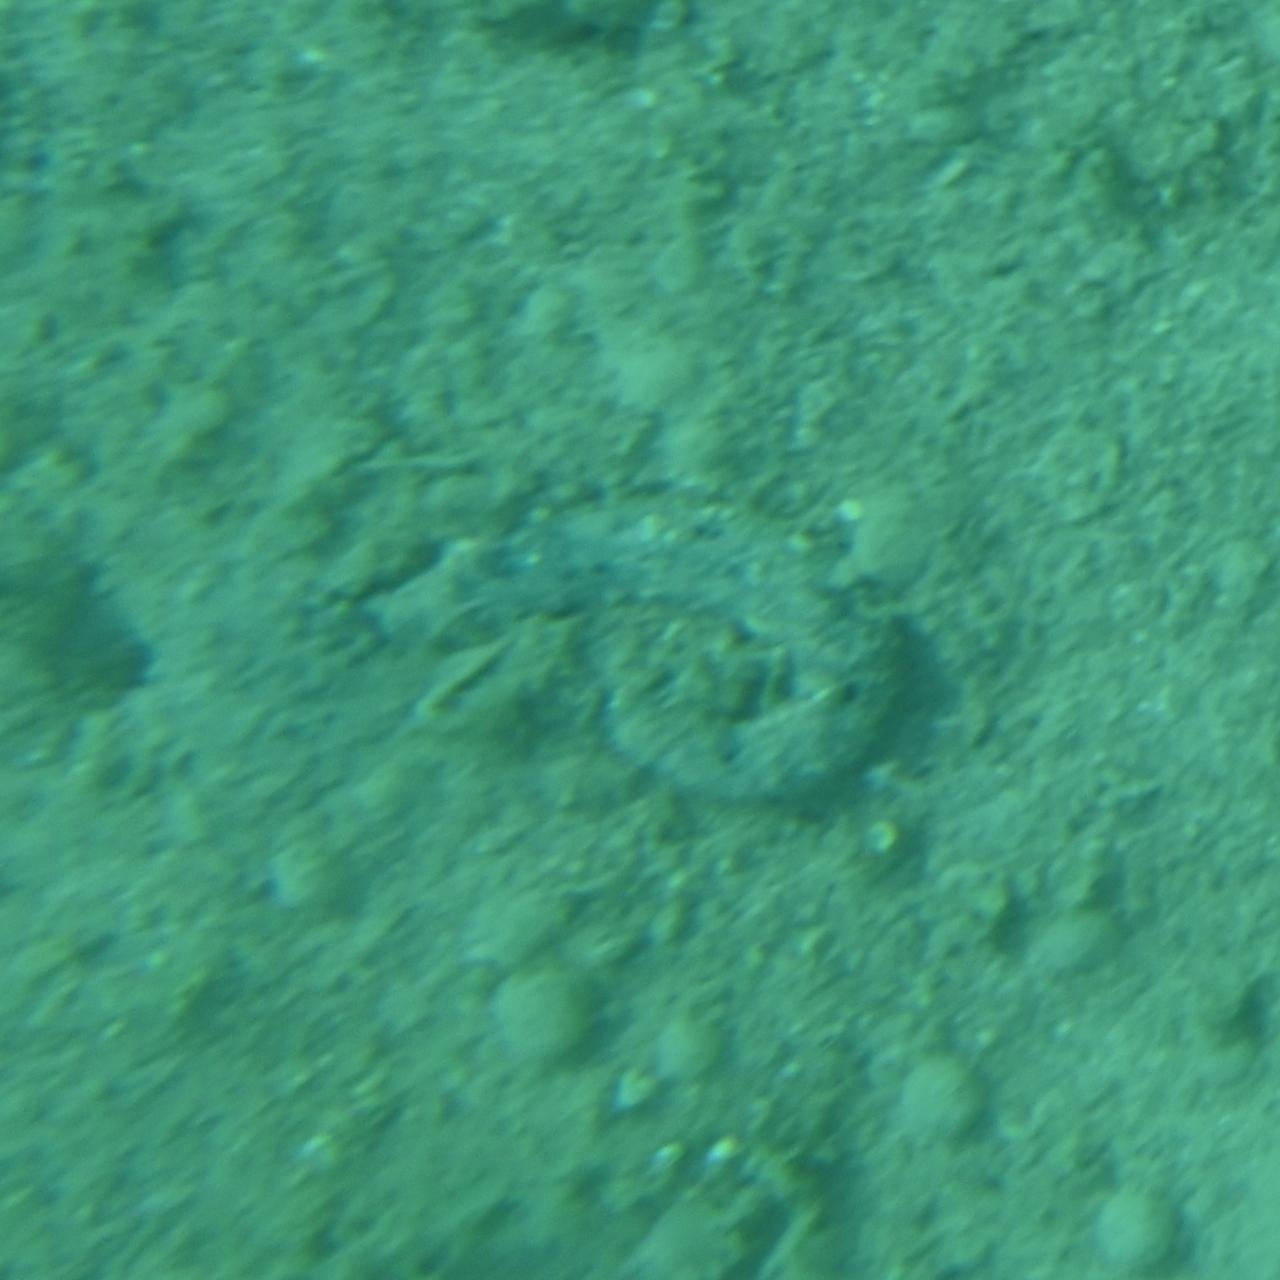Holothuria tubulosa: (378, 483, 902, 797)
